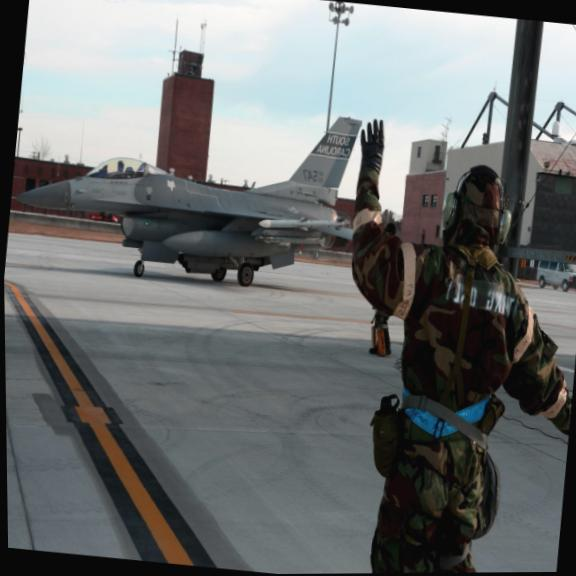no_safety_vest: (379, 232, 532, 448)
